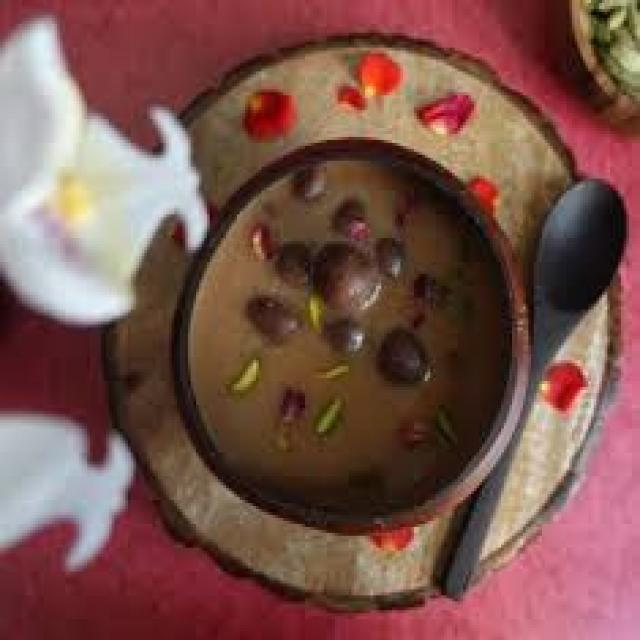paal kolukattai: (191, 164, 495, 516)
